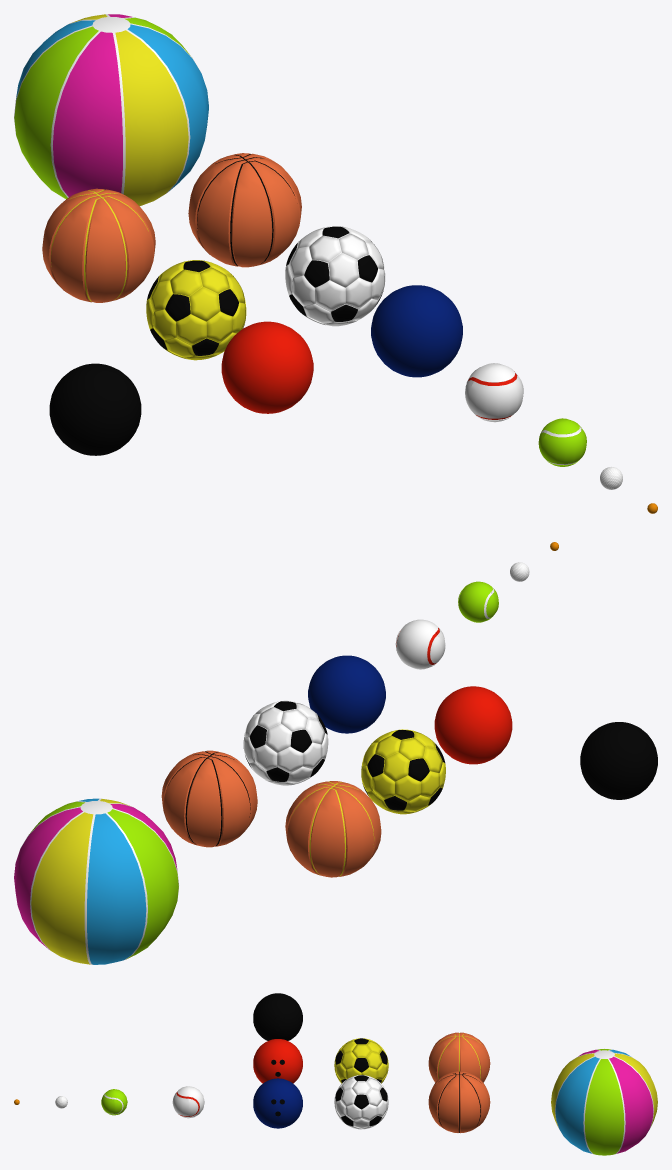
File: ball-balls.glb
3 views of the same model, one above another, from view 1: azimuth 30°, elevation 25°; view 2: azimuth 150°, elevation 25°; view 3: azimuth 270°, elevation 25° (orthographic). The views are drawn at different scales.
Parts seen in each view (by area): view 1: Sphere.005, Sphere.008, Sphere, Football, Football.001, Sphere.007, Sphere.002, Sphere.006, Sphere.003, Mesh_Green_0; view 2: Sphere.005, Sphere, Sphere.008, Football, Football.001, Sphere.006, Sphere.007, Sphere.002, Sphere.003, Mesh_Green_0; view 3: Sphere.005, Sphere, Football, Sphere.008, Sphere.002, Sphere.007, Football.001, Sphere.006, Sphere.003, Mesh_Green_0.
Part boxes in pixels (<box>): Sphere.005: <box>14,14,208,206</box>; Sphere.008: <box>42,188,155,302</box>; Sphere: <box>188,153,301,267</box>; Football: <box>285,226,385,326</box>; Football.001: <box>146,260,246,360</box>; Sphere.007: <box>49,363,141,455</box>; Sphere.002: <box>371,285,462,377</box>; Sphere.006: <box>221,321,313,413</box>; Sphere.003: <box>465,363,523,422</box>; Mesh_Green_0: <box>538,418,586,466</box>; Sphere.005: <box>14,798,178,964</box>; Sphere: <box>161,750,257,847</box>; Sphere.008: <box>285,781,381,877</box>; Football: <box>243,700,328,785</box>; Football.001: <box>361,729,445,814</box>; Sphere.006: <box>434,686,512,764</box>; Sphere.007: <box>580,722,657,799</box>; Sphere.002: <box>308,655,385,733</box>; Sphere.003: <box>395,619,445,669</box>; Mesh_Green_0: <box>458,581,498,622</box>; Sphere.005: <box>551,1049,657,1155</box>; Sphere: <box>428,1071,490,1133</box>; Football: <box>334,1075,388,1129</box>; Sphere.008: <box>428,1032,490,1082</box>; Sphere.002: <box>253,1078,302,1128</box>; Sphere.007: <box>253,993,302,1040</box>; Football.001: <box>334,1038,388,1083</box>; Sphere.006: <box>253,1039,302,1083</box>; Sphere.003: <box>172,1086,204,1118</box>; Mesh_Green_0: <box>101,1089,127,1115</box>.
Size of the model in its own units: 8.14 by 3.08 by 18.93.
